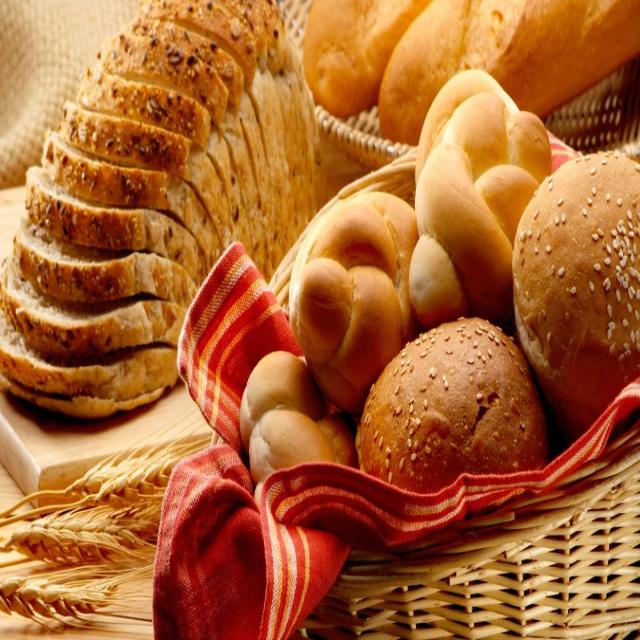Bread: (0, 3, 297, 418)
Bun: (352, 313, 556, 506), (516, 140, 640, 429)
